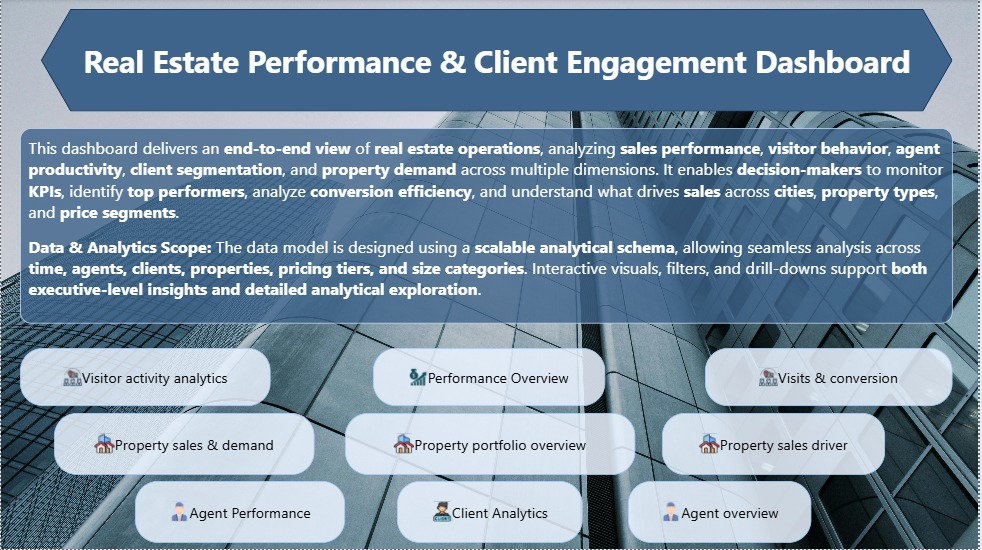

What the dashboard file says about the page in this screenshot:
{"tool":"powerbi","page":{"name":"Landing Page","canvas":[1280,720],"ordinal":0},"visuals":[{"type":"group","id":"g1","title":"Group 1","box":[0,0,1280.2,720],"z":0},{"type":"image","box":[0,0,1280.2,720],"z":0,"group":"g1"},{"type":"actionButton","box":[921.6,456.5,324,76.3],"z":1000},{"type":"actionButton","box":[518.4,630.7,243.4,80.6],"z":2000},{"type":"shape","box":[52.4,13.1,1193.2,134.2],"z":3000,"group":"g1"},{"type":"actionButton","box":[175.7,630.7,275,80.6],"z":3000},{"type":"actionButton","box":[820.8,630.7,240.5,80.6],"z":4000},{"type":"actionButton","box":[486.7,456.5,303.8,76.3],"z":5000},{"type":"actionButton","box":[24.5,456.5,328.3,76.3],"z":6000},{"type":"actionButton","box":[450.7,541.4,380.2,80.6],"z":7000},{"type":"actionButton","box":[69.1,541.4,341.3,80.6],"z":8000},{"type":"actionButton","box":[865.4,541.4,292.3,80.6],"z":9000},{"type":"textbox","box":[24.5,168.5,1221.1,256.3],"z":10000}]}

Visuals, with their boxes in screenshot pixels (x1, y1, x2, y2), scaled from the page's 1280x720 canvas onto the 982x550 screenshot:
"Group 1" group: box(0, 0, 981, 549)
image: box(0, 0, 981, 549)
actionButton: box(707, 349, 956, 407)
actionButton: box(398, 482, 584, 543)
shape: box(40, 10, 956, 113)
actionButton: box(135, 482, 346, 543)
actionButton: box(630, 482, 814, 543)
actionButton: box(373, 349, 606, 407)
actionButton: box(19, 349, 271, 407)
actionButton: box(346, 414, 637, 475)
actionButton: box(53, 414, 315, 475)
actionButton: box(664, 414, 888, 475)
textbox: box(19, 129, 956, 324)
